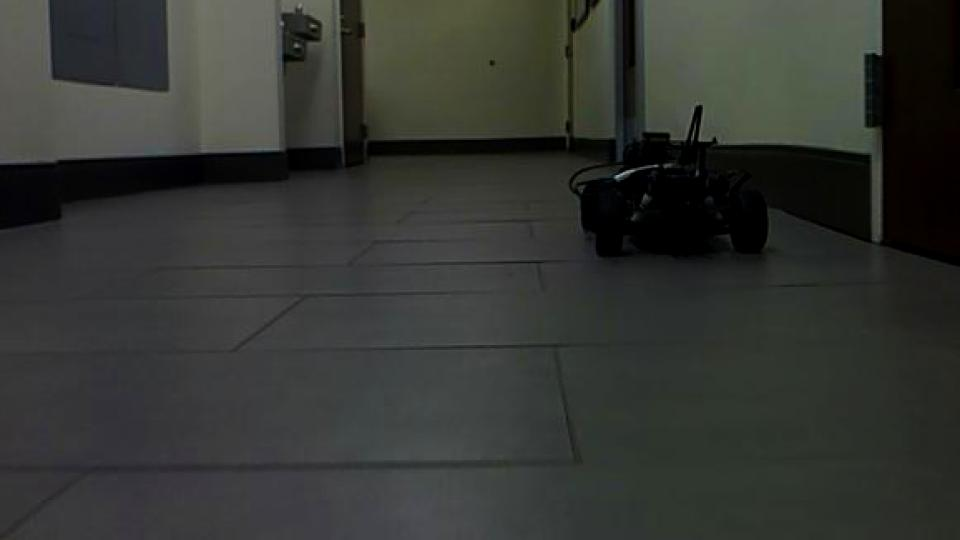car: (566, 102, 771, 260)
